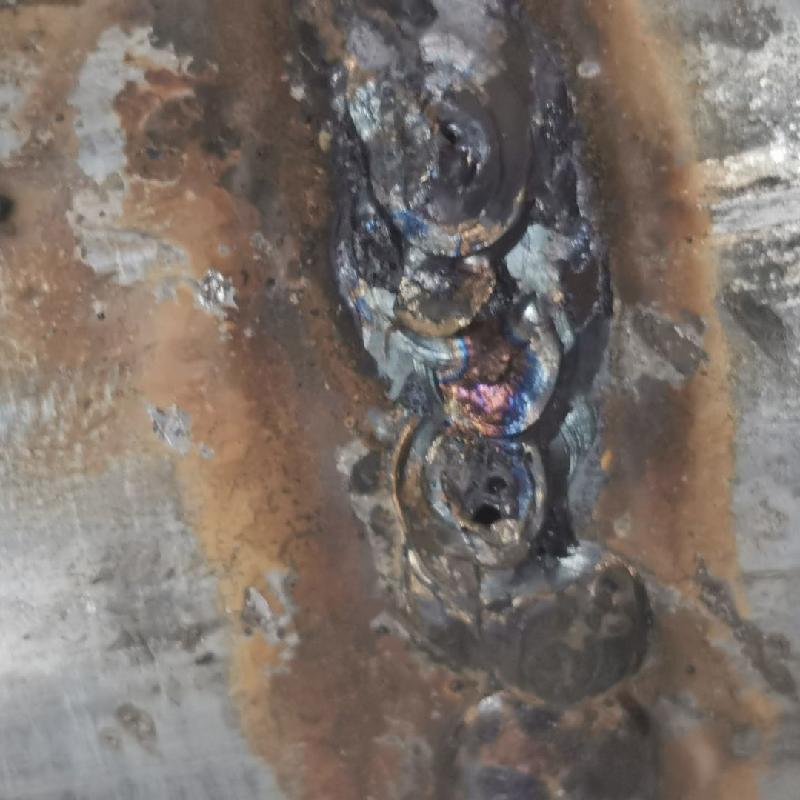Surface_pores: (461, 461, 534, 538), (421, 104, 483, 158)
crater: (316, 44, 580, 560)
